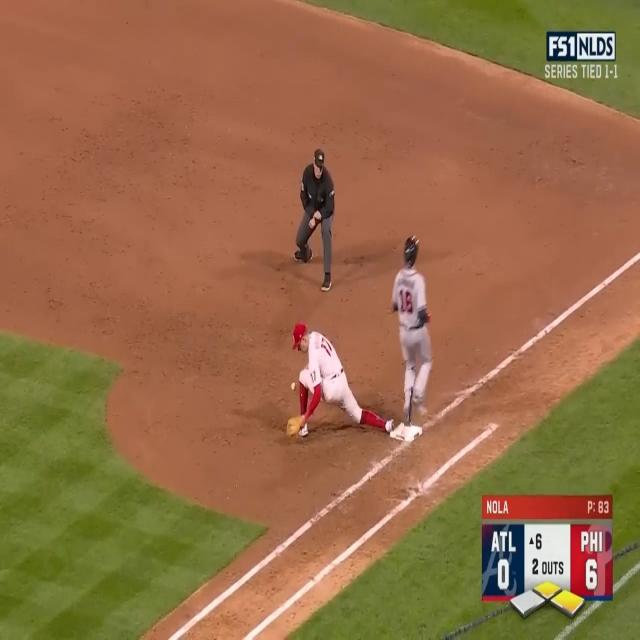baseball: (290, 380, 297, 393)
